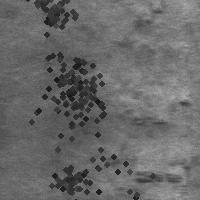rolled-in_scale: (41, 120, 149, 200), (23, 34, 113, 124), (117, 94, 191, 189), (38, 56, 120, 138), (13, 0, 83, 36), (116, 16, 191, 48), (47, 158, 87, 198)
